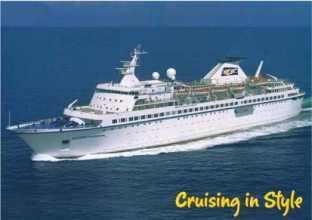youlun: (3, 55, 307, 160)
